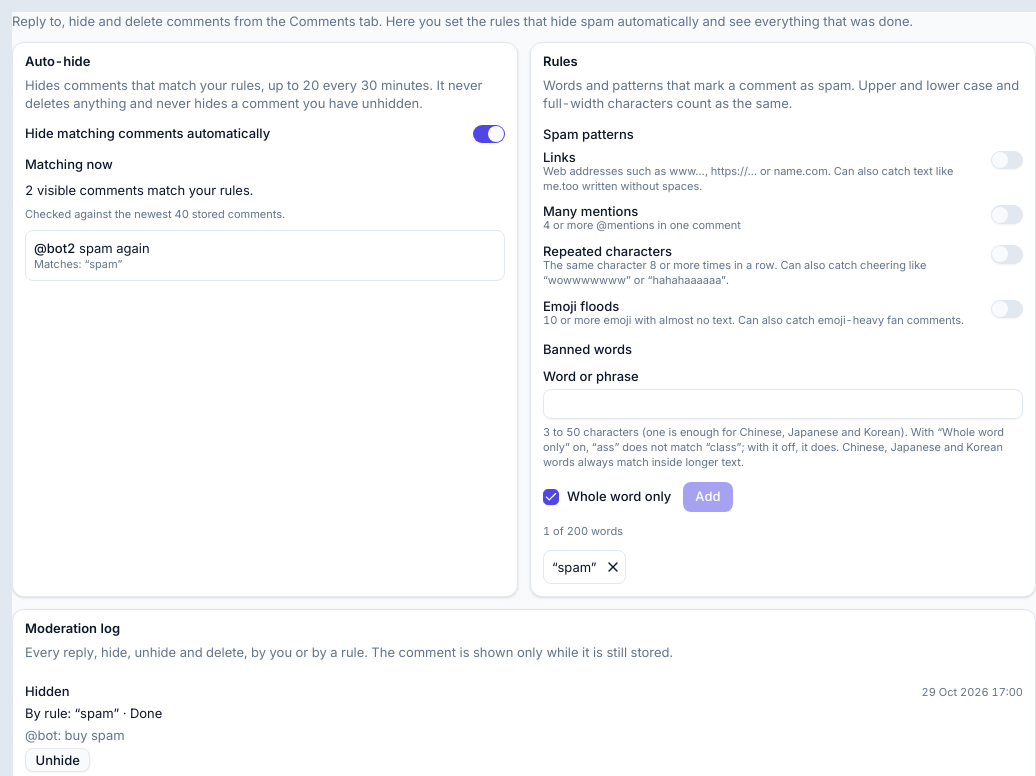
Test: ModerationTab › auto-hide ON: a refused preview (too short) shows its error and opens no confirm
The image size is (1036, 776).
Type "as" into the field labelled "Word or phrase" at (783, 404), box left=543, top=389, right=1023, bottom=419
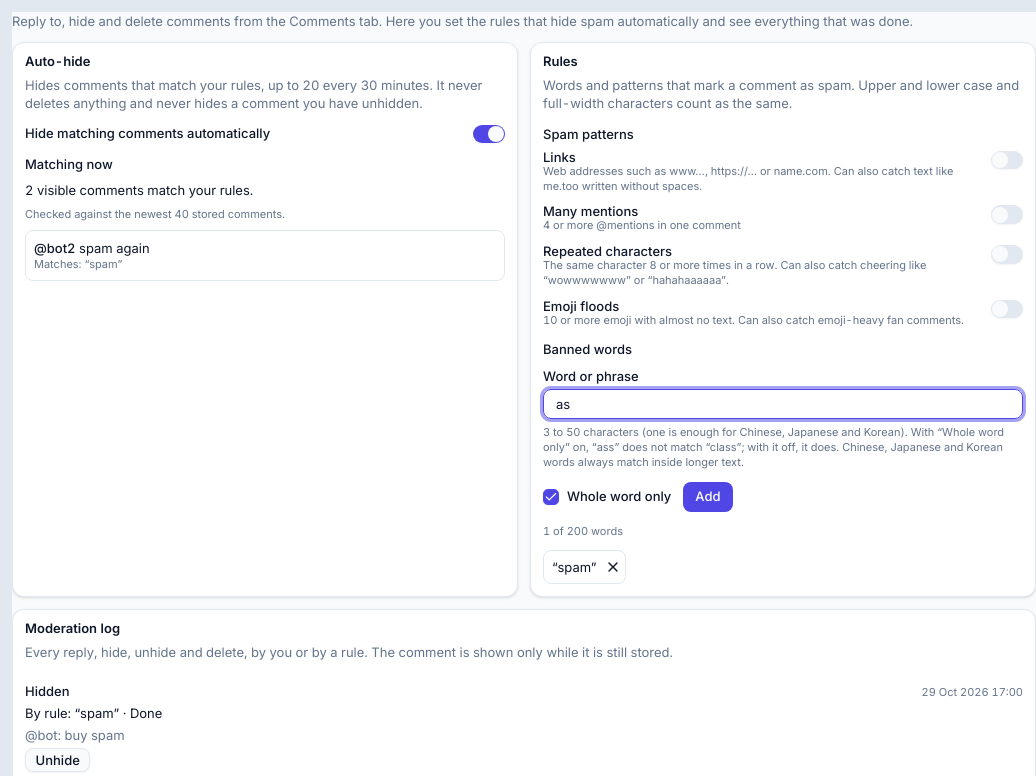
Click the button "Add" at (708, 496), box left=683, top=482, right=733, bottom=512
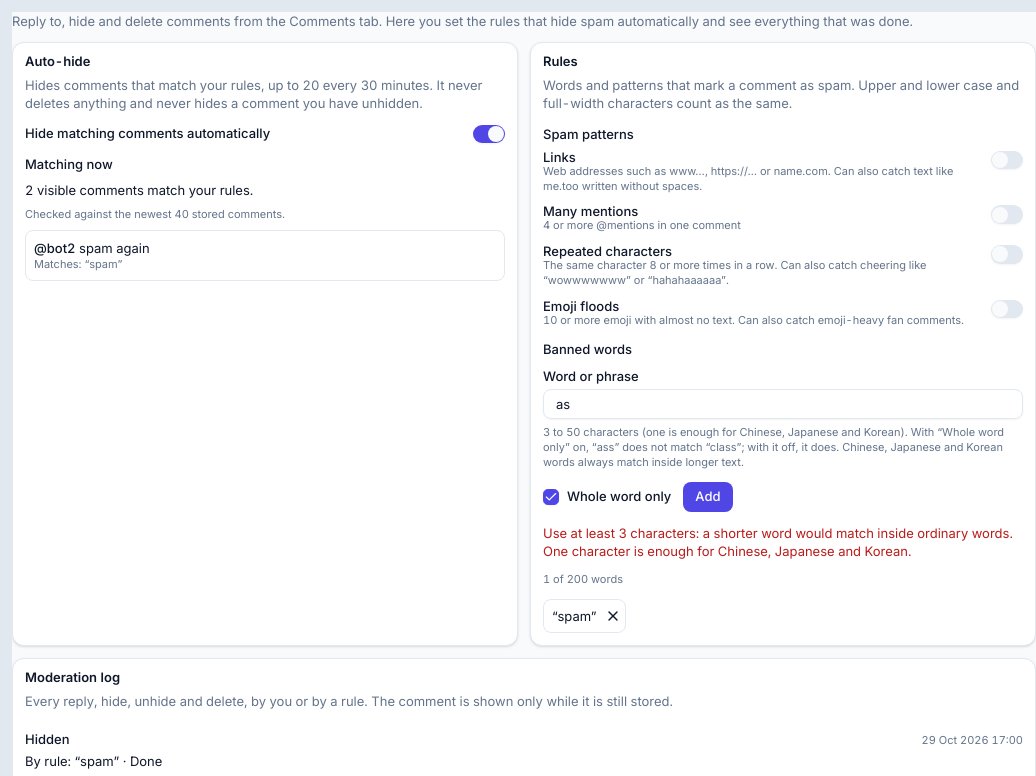
expect the message shows "Use at least 3 characters: a shorter word would match inside ordinary words. One character is enough for Chinese, Japanese and Korean.": met, box left=543, top=524, right=1013, bottom=559
